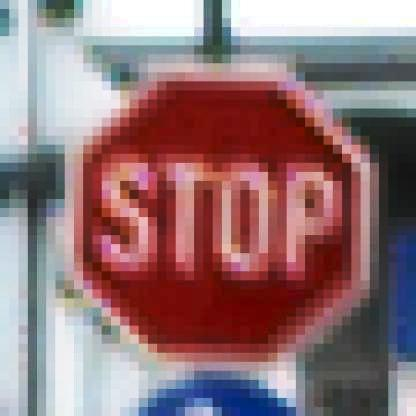Stop Sign: (67, 62, 388, 360)
